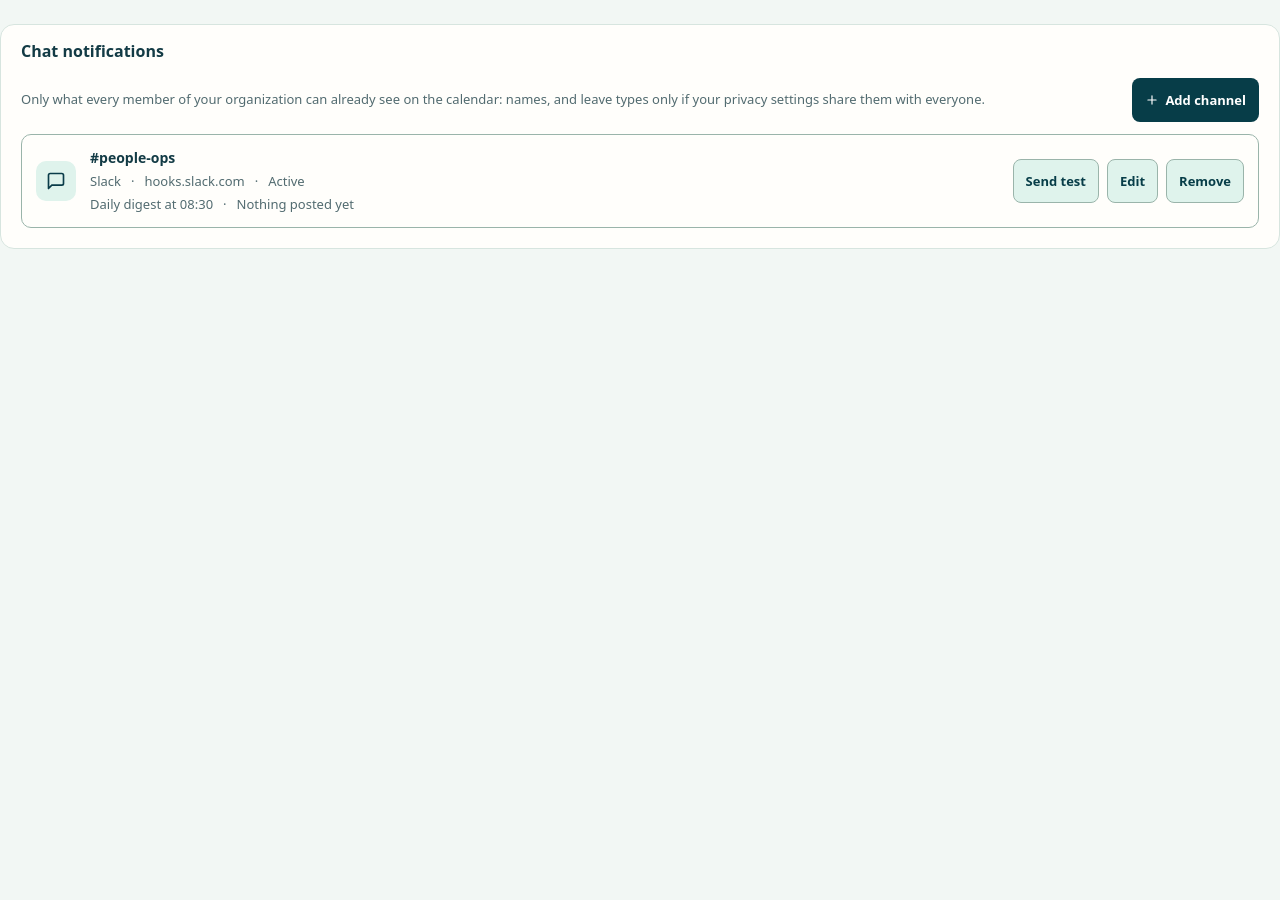
ChatNotificationsSettings › removes a channel only after confirmation
The image size is (1280, 900).
Click the button with test id "chat-webhook-remove-7". click: (1205, 181)
box: [1166,159,1244,203]
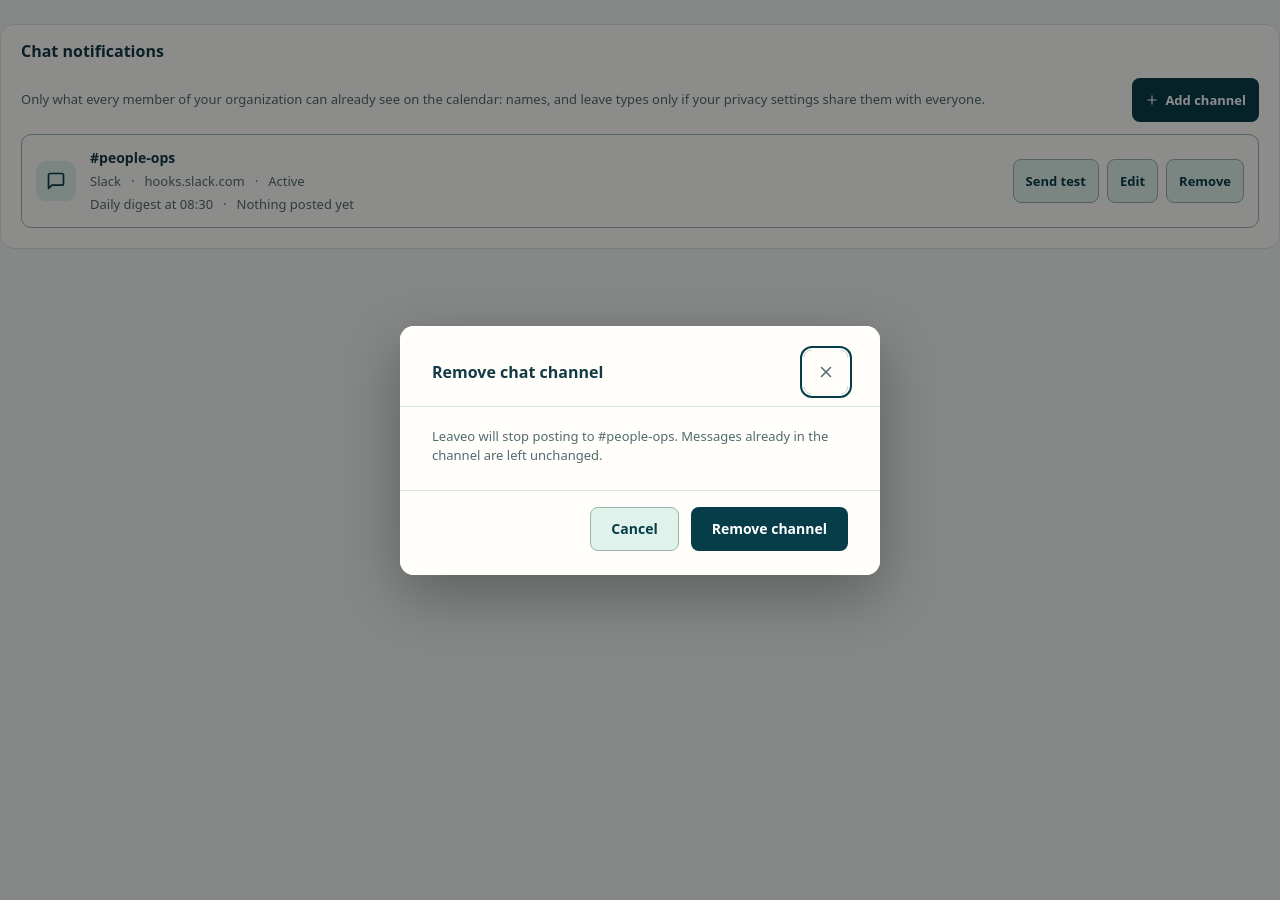
Expected: the dialog with test id "chat-webhook-remove-modal" shows "#people-ops", [432,426,828,464]
Click the button with test id "chat-webhook-confirm-remove". click: (769, 528)
box: [691,506,848,550]
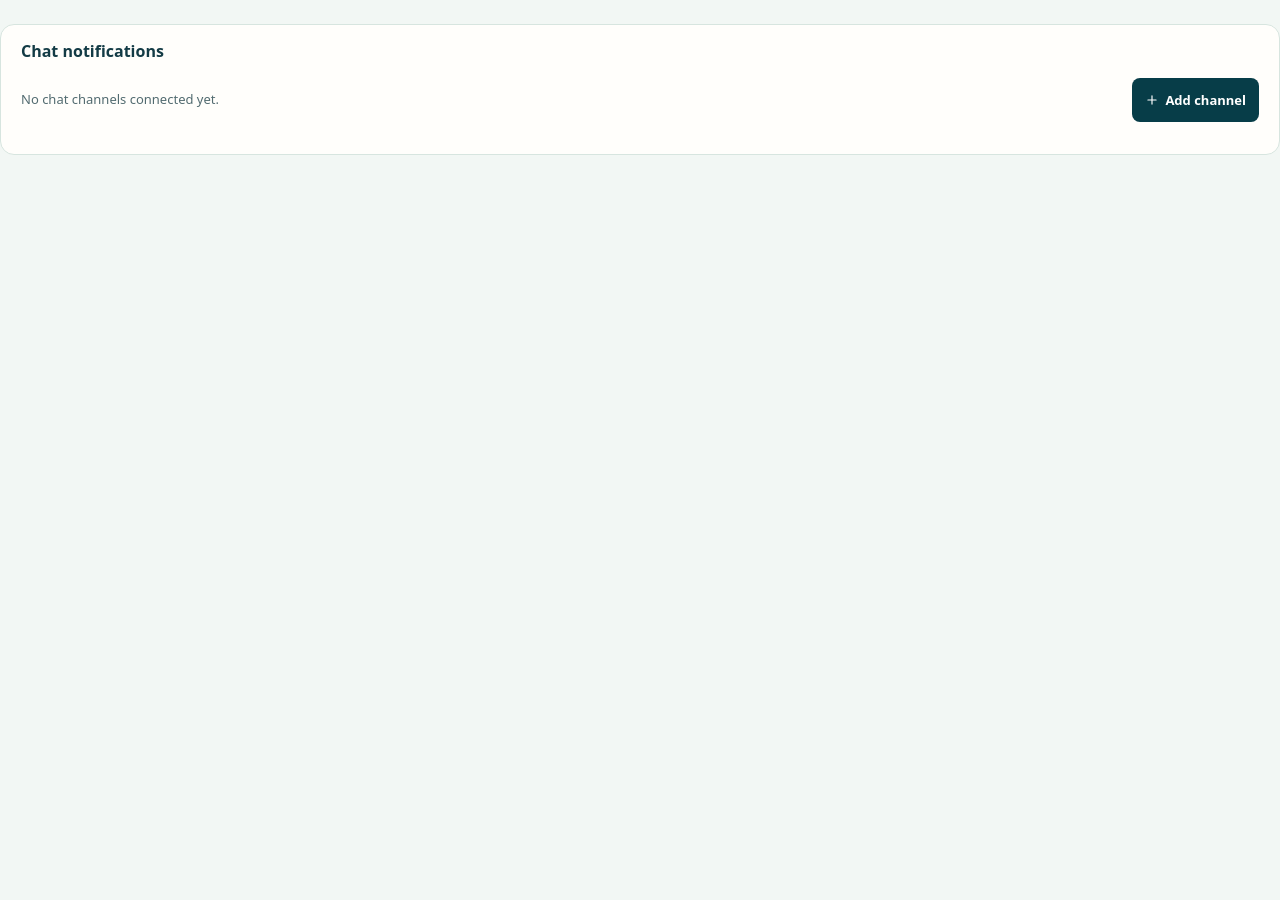
Expected: the list item with test id "chat-webhook-7" is gone
Expected: the text "No chat channels connected yet." is shown, [21,90,219,110]
